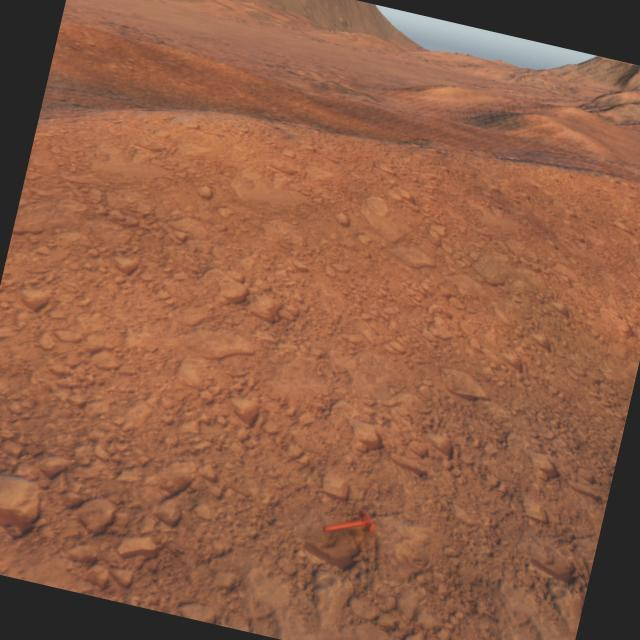newhammer: (322, 502, 377, 542)
